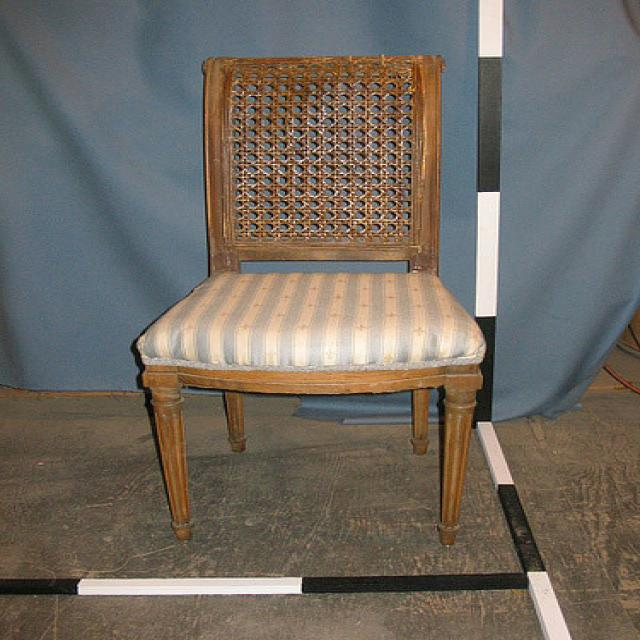chair: (132, 51, 486, 550)
